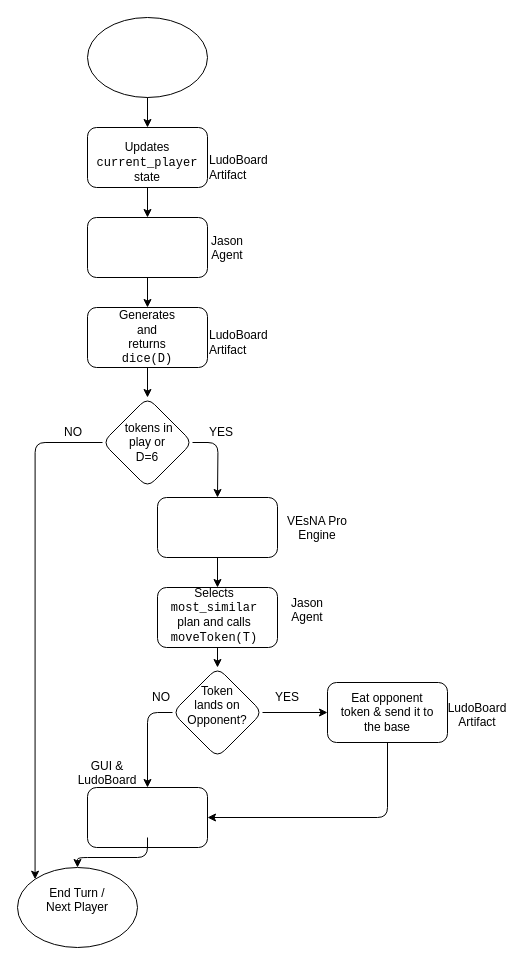
This 525x965 diagram has some shape labels left out. Each missing label, with the centre of its shape:
"Calculates distance between Agent Temper/Mood and Plans Annotations" goes at [217,527].
"Draw intended trajectory, Pause Thread, Commit Move" goes at [147,817].
"Perceives turn, calls rollDice()" goes at [147,247].
"Start Turn" goes at [147,57].
